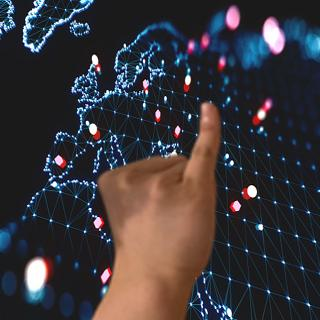FINE: (89, 97, 228, 294)
